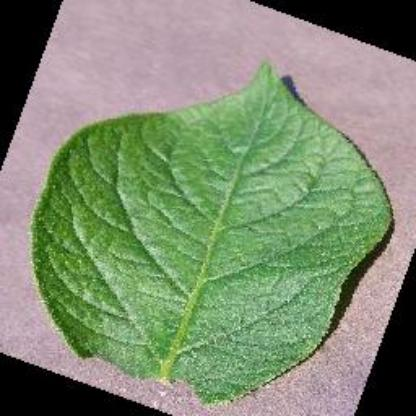Healthy-plant: (26, 57, 393, 402)
